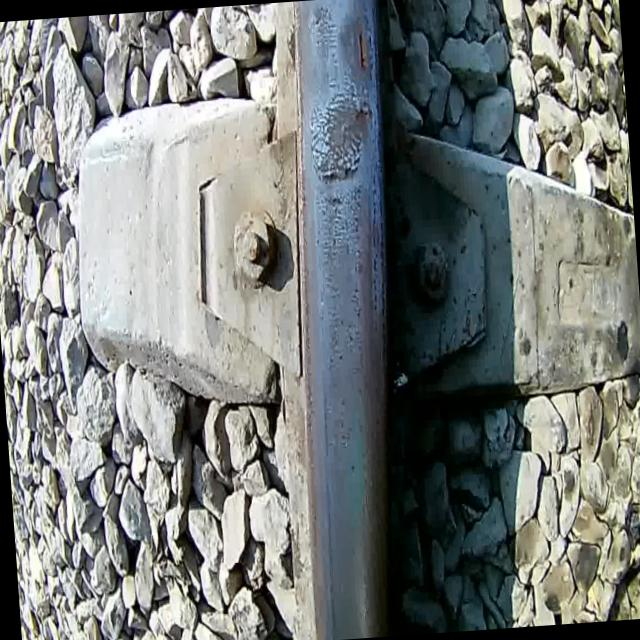Spallings: (350, 21, 370, 80)
Squats: (303, 92, 380, 190), (328, 0, 383, 95)
